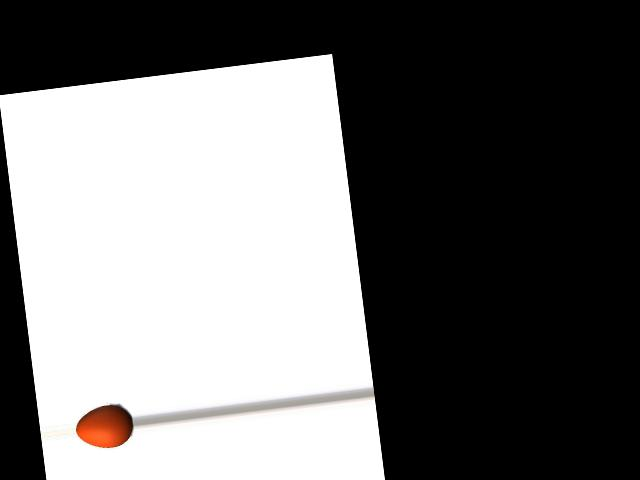egg: (74, 402, 135, 451)
